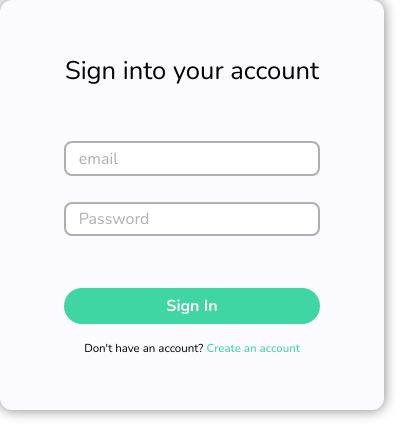
Test: Auth Component › displays an error message if signUp fails
Click the button "Create an account" at (253, 349), box [206,340,300,358]
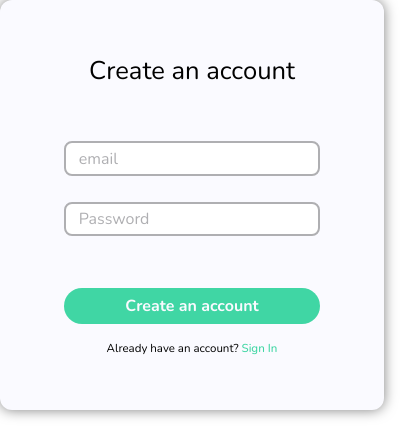
Type "test@example.com" into the field with placeholder "email" at (192, 159), box [64,142,320,176]
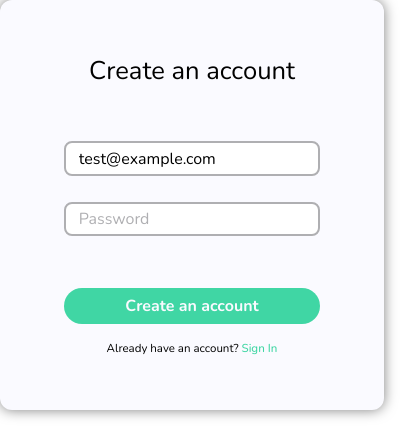
Type "password123" into the password field with placeholder "Password" at (192, 219), box [64,202,320,236]
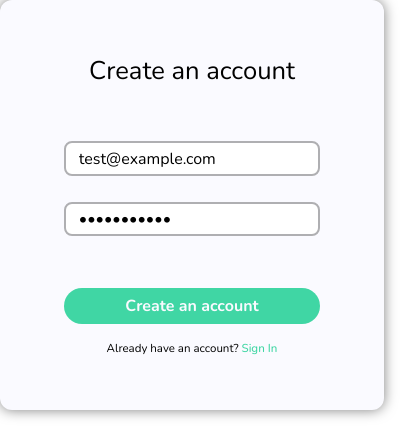
Click the button "Create an account" at (192, 306), box [64,294,320,318]
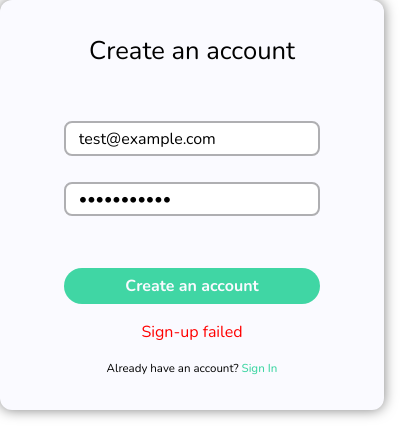
Now the text "Sign-up failed" is shown, box [141,320,243,344]
